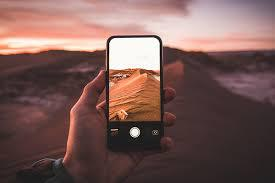Smartphone: (55, 66, 176, 159), (107, 40, 162, 147)
